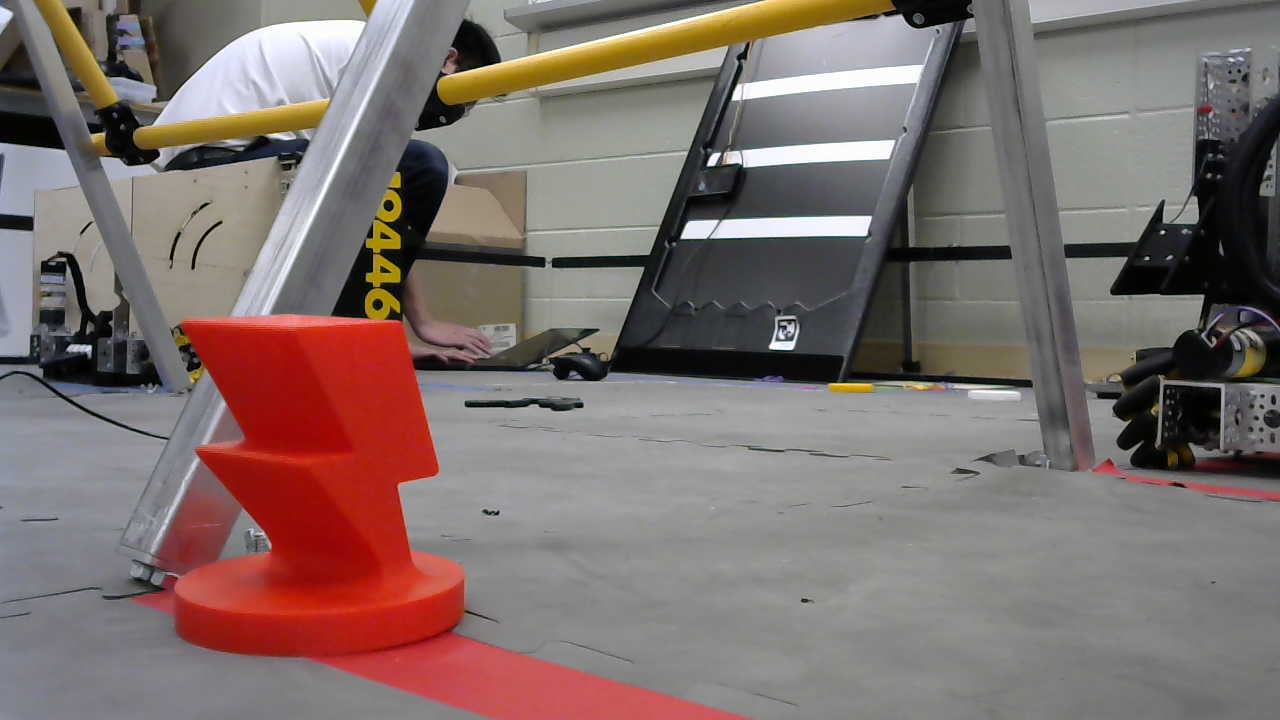redobject: (175, 314, 469, 660)
